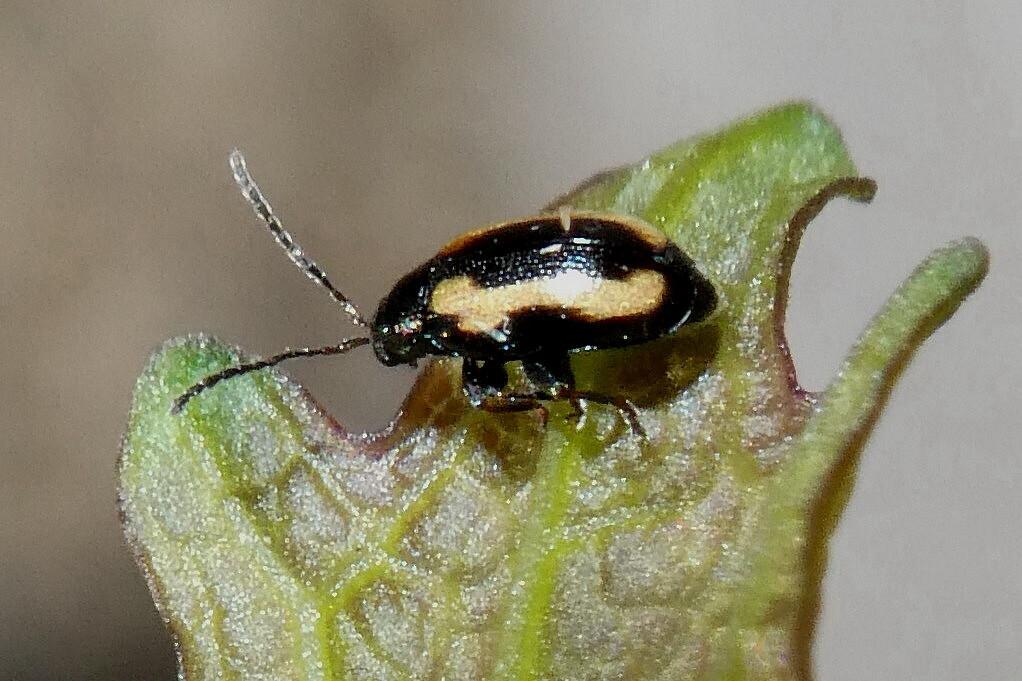flea_beetle: (104, 53, 790, 497)
